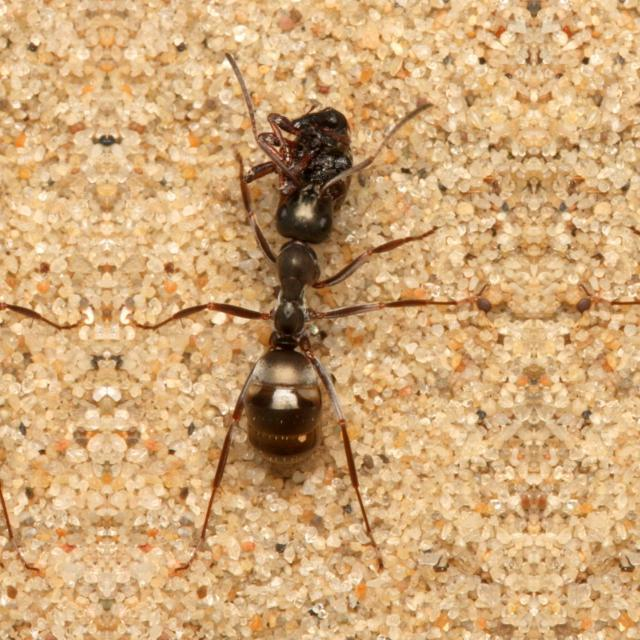Formica: (188, 61, 404, 512)
